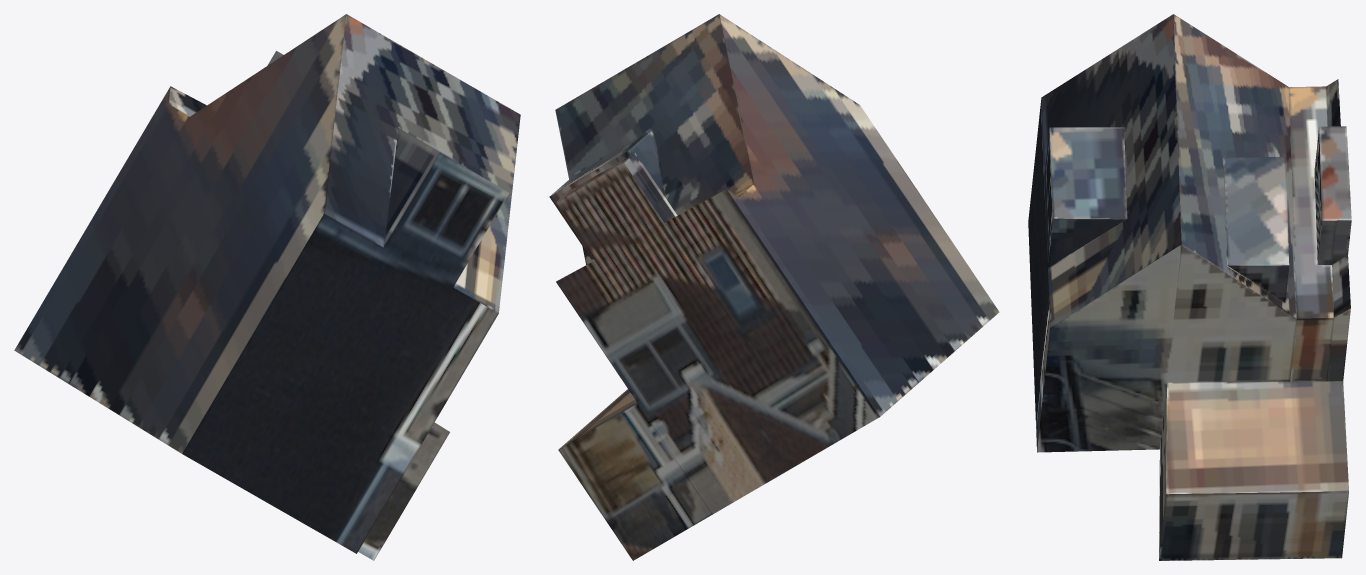
3 renders of one model, left to right at view 1: azimuth 30°, elevation 25°; view 2: azimuth 150°, elevation 25°; view 3: azimuth 270°, elevation 25°, orthographic. The views are drawn at different scales.
Visible parts, largest first — view 1: BAG_0599100110002041 (×3); view 2: BAG_0599100110002041 (×5); view 3: BAG_0599100110002041 (×5).
Boxes of the visible parts, x1,y1,x2,y2 form: BAG_0599100110002041 (×3): [14, 14, 520, 560]; BAG_0599100110002041 (×5): [549, 14, 999, 560]; BAG_0599100110002041 (×5): [1028, 14, 1351, 560].
Size of the model in its own units: 10.97 by 13.24 by 7.2.
2 materials, 1 textured.
